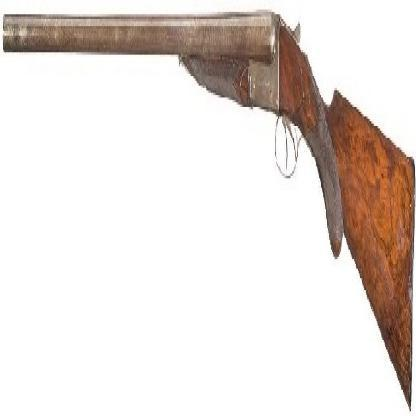gun: (0, 0, 415, 406)
